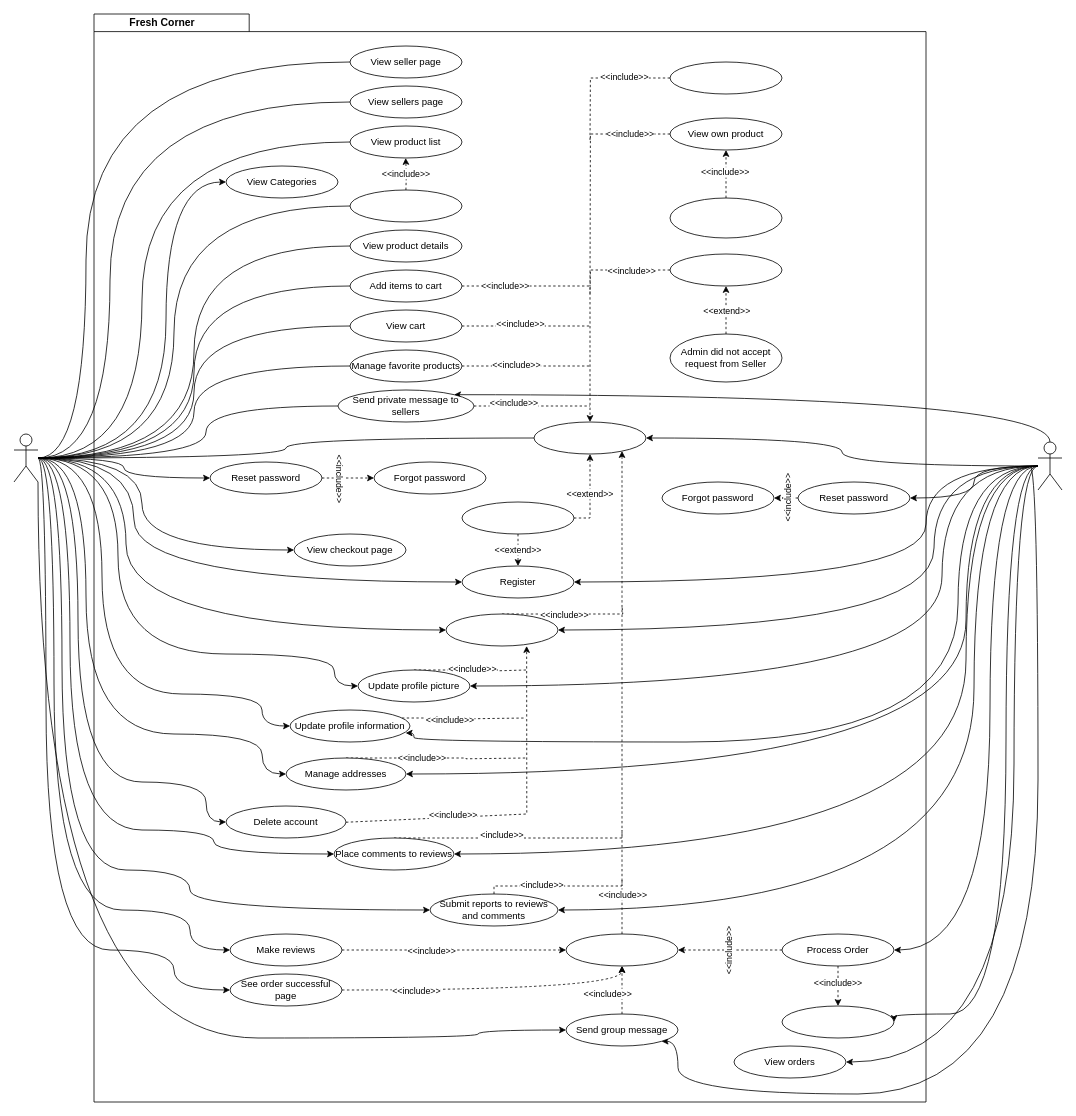
Image size: 1076x1116. Some labels were removed from this diagram. Each missing label, with the box of its shape:
Add more products in store: (669, 197, 782, 238)
Add/Edit/Delete product: (669, 253, 782, 286)
Buyer: (13, 433, 38, 482)
Filter and sort products: (349, 189, 462, 222)
Invalid credentials: (461, 501, 574, 534)
Login: (533, 421, 646, 454)
Place order: (565, 933, 678, 966)
Seller: (1037, 441, 1062, 490)
View order: (781, 1005, 894, 1038)
View own products: (669, 61, 782, 94)
View profile page: (445, 613, 558, 646)
